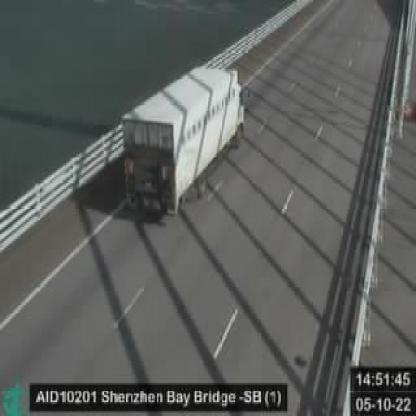Truck: (121, 68, 247, 213)
